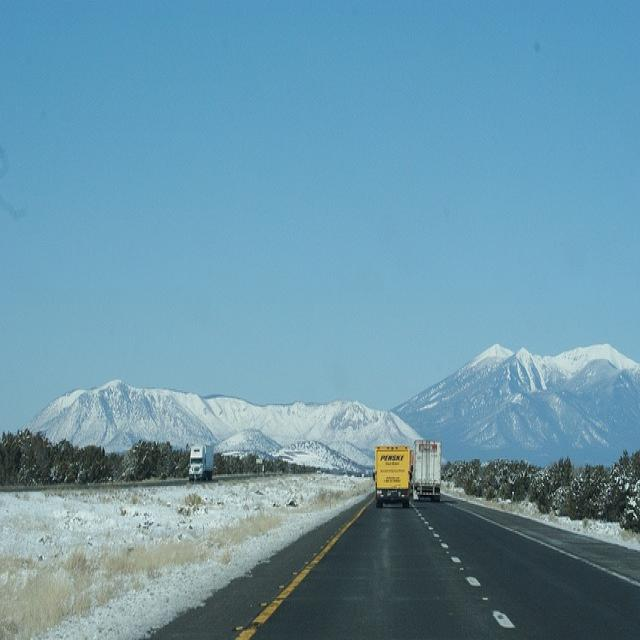truck: (372, 444, 410, 506), (411, 438, 440, 500), (187, 443, 213, 480)
